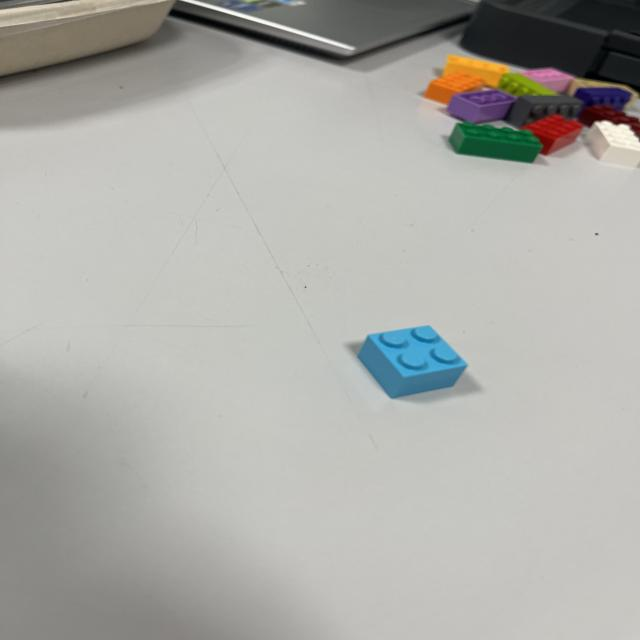C2x1x1: (356, 323, 469, 399)
